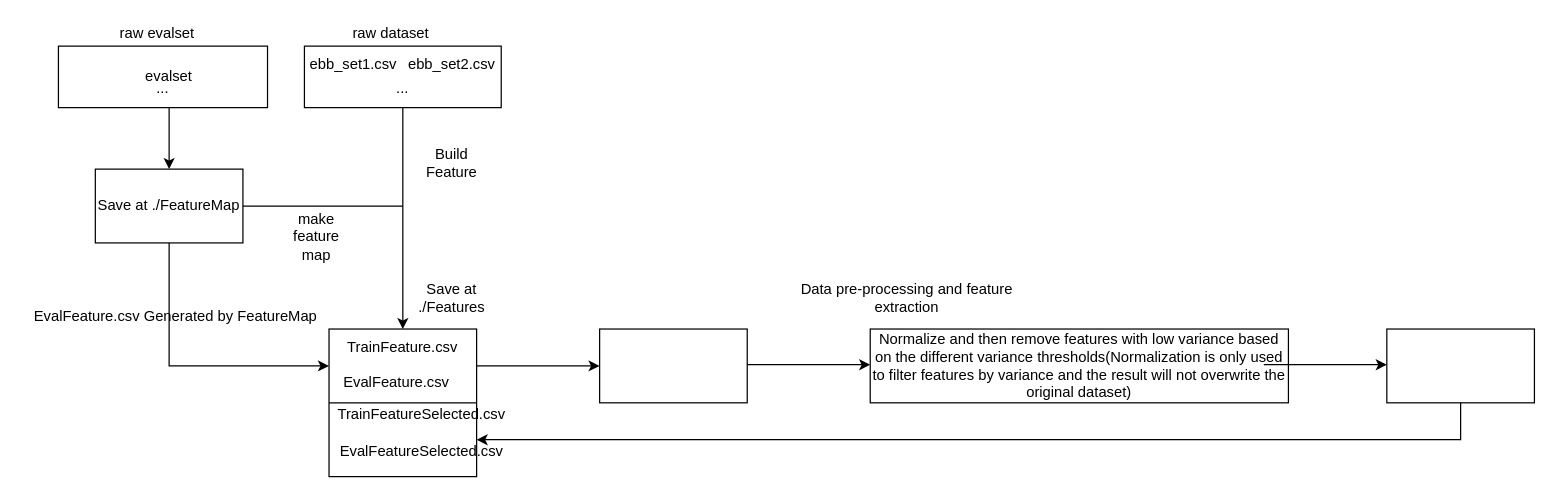
The diagram is 1556 pixels wide and 498 high, and some of its shapes have lost their labels. Each missing label, with the box of its shape:
Removal of features with excess null values (more than 35%): (598, 328, 747, 403)
StandardScaler then PCA: (1386, 328, 1534, 403)
